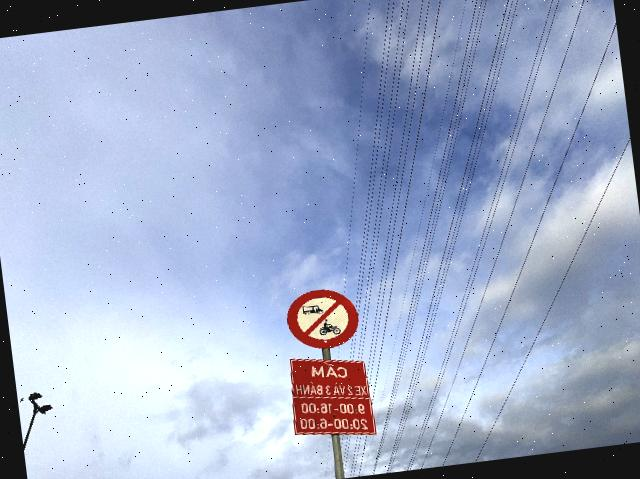cam-xe-2-banh-3-banh: (283, 286, 362, 354)
